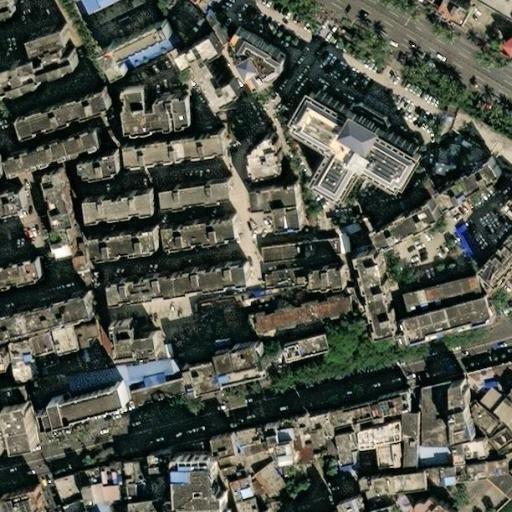building: (290, 93, 422, 200), (107, 259, 246, 298), (0, 292, 94, 340), (14, 90, 105, 137), (1, 132, 94, 177), (399, 302, 491, 343), (255, 298, 349, 337), (99, 22, 168, 75), (447, 115, 512, 169), (352, 251, 391, 337), (229, 29, 282, 88), (395, 276, 479, 313), (436, 161, 499, 209), (117, 87, 186, 129), (58, 387, 128, 428), (122, 132, 219, 161), (369, 205, 432, 249), (188, 56, 239, 110), (79, 187, 147, 217), (252, 235, 331, 258), (61, 364, 116, 395), (172, 33, 218, 70), (223, 346, 266, 385), (156, 177, 223, 202), (265, 416, 299, 465), (35, 41, 79, 78), (86, 228, 148, 254), (163, 219, 230, 243), (244, 132, 279, 175), (36, 182, 64, 235), (347, 417, 396, 447), (328, 430, 369, 464), (480, 461, 512, 502), (116, 362, 168, 387), (109, 323, 150, 353), (248, 188, 297, 213), (444, 225, 474, 265), (180, 355, 218, 386), (280, 338, 325, 364), (16, 348, 45, 388), (158, 462, 183, 507), (5, 482, 42, 512), (481, 419, 512, 454), (126, 465, 153, 504), (192, 304, 217, 344), (250, 465, 281, 497), (11, 415, 35, 456), (32, 22, 69, 48), (343, 399, 376, 427), (366, 439, 396, 467), (354, 473, 381, 504), (431, 0, 464, 25), (261, 268, 304, 287), (164, 5, 192, 33), (371, 391, 402, 416), (234, 306, 258, 338), (218, 301, 239, 337), (82, 481, 114, 504), (76, 156, 111, 177), (308, 412, 334, 439), (389, 465, 420, 487), (273, 208, 301, 232), (180, 341, 215, 360), (462, 368, 490, 391), (48, 231, 71, 259), (405, 496, 444, 512), (52, 335, 79, 358), (0, 361, 25, 385), (89, 463, 115, 486), (216, 440, 240, 464), (303, 266, 335, 284), (75, 329, 100, 352), (451, 437, 481, 456), (328, 405, 348, 433), (283, 498, 321, 512), (56, 354, 78, 378), (448, 408, 465, 439), (234, 430, 259, 451), (0, 200, 21, 225), (256, 423, 273, 453), (494, 28, 512, 56), (486, 363, 511, 383), (447, 382, 465, 409), (232, 294, 262, 310), (419, 448, 444, 467), (367, 470, 392, 489), (441, 469, 467, 487), (73, 350, 93, 373), (238, 446, 261, 464), (0, 388, 23, 406), (469, 466, 490, 485), (34, 341, 55, 359), (38, 354, 58, 370), (364, 499, 388, 512), (309, 440, 325, 459), (499, 460, 512, 483), (138, 506, 174, 512), (219, 124, 229, 135), (507, 361, 512, 377)
